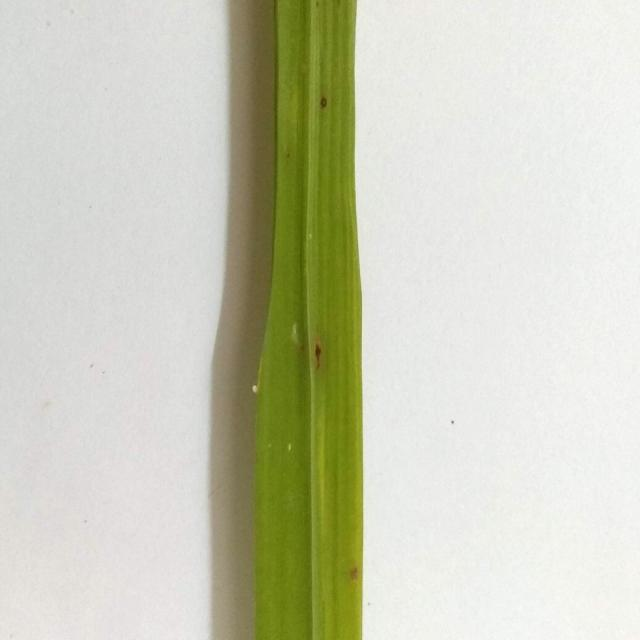Brown spot: (309, 85, 334, 121), (308, 338, 328, 377), (346, 552, 364, 593)
